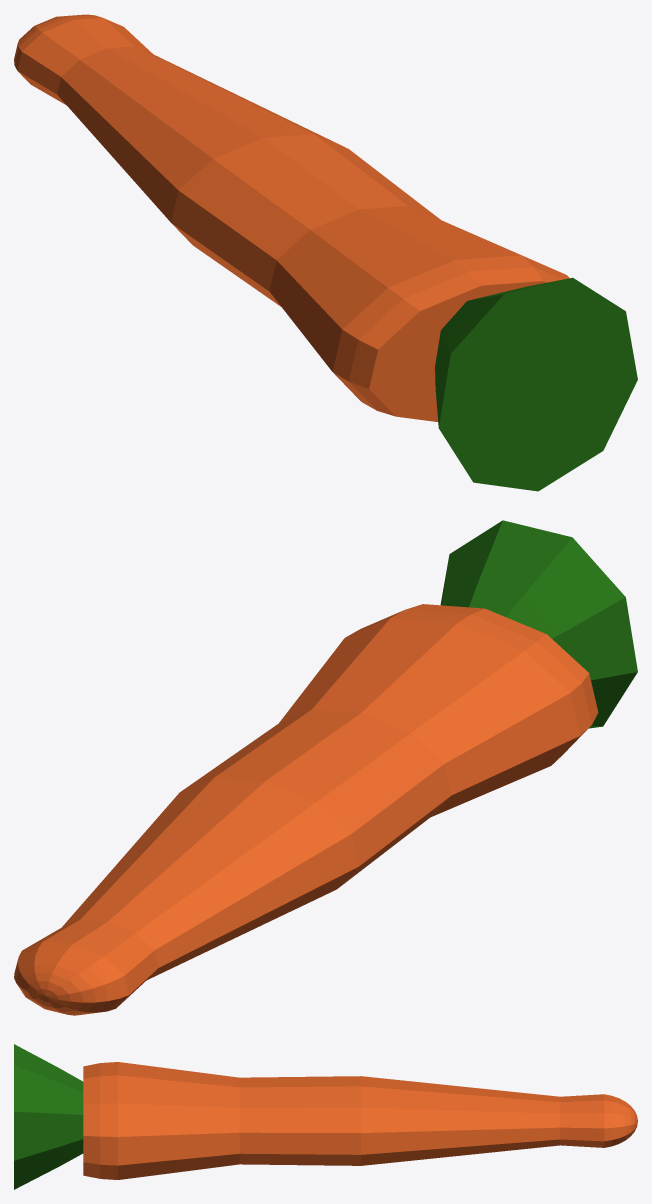
The model's file is carrot.fbx.
3 views of the same model, one above another, from view 1: azimuth 30°, elevation 25°; view 2: azimuth 150°, elevation 25°; view 3: azimuth 270°, elevation 25° (orthographic). The views are drawn at different scales.
Parts seen in each view (by area): view 1: Sphere, Tree leaves bottom.003; view 2: Sphere, Tree leaves bottom.003; view 3: Sphere, Tree leaves bottom.003.
Boxes of the visible parts, x1=… form: Sphere: x1=14, y1=14, x2=569, y2=421; Tree leaves bottom.003: x1=435, y1=277, x2=637, y2=491; Sphere: x1=14, y1=604, x2=598, y2=1015; Tree leaves bottom.003: x1=440, y1=520, x2=637, y2=728; Sphere: x1=83, y1=1062, x2=637, y2=1179; Tree leaves bottom.003: x1=14, y1=1044, x2=83, y2=1189.
Bounding box in the file's own units: 198 × 159 × 689.
